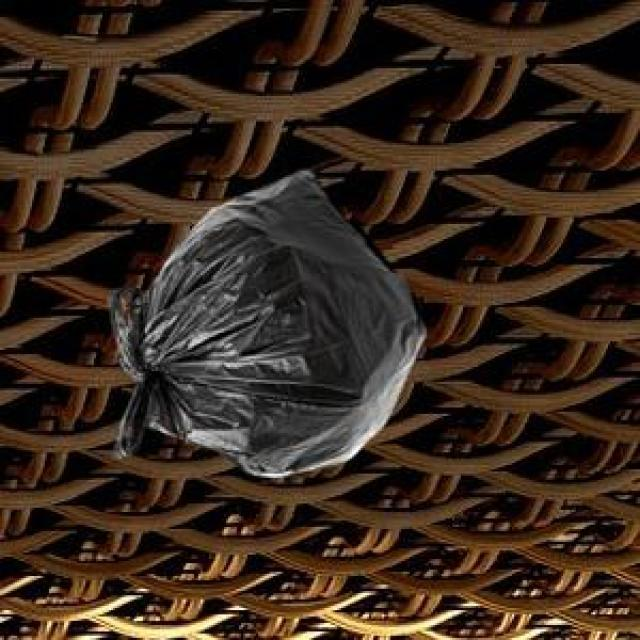waste: (111, 171, 425, 478)
